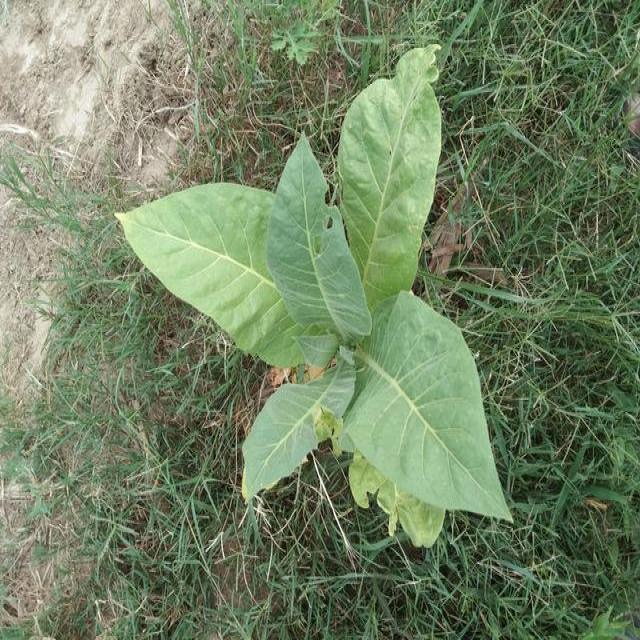crop: (119, 51, 528, 557)
